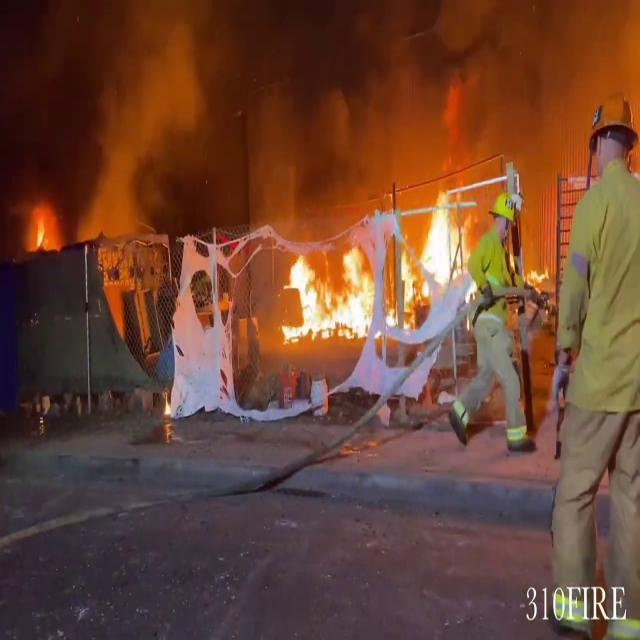Fire: (274, 178, 472, 348), (416, 182, 468, 292), (24, 198, 64, 258)
Smoke: (20, 1, 628, 202), (0, 0, 214, 234)
